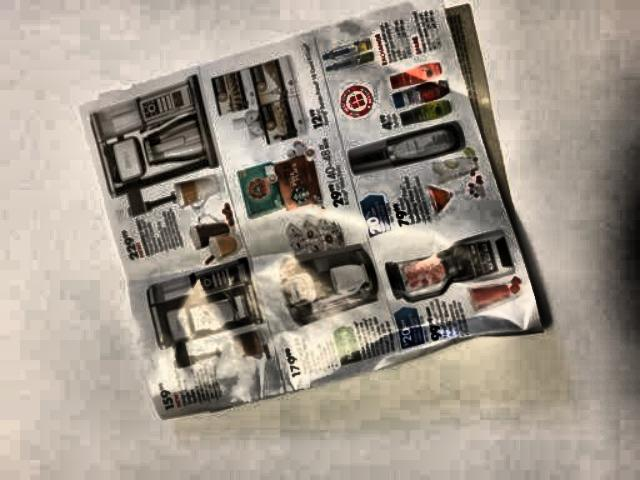Paper: (86, 0, 541, 424)
